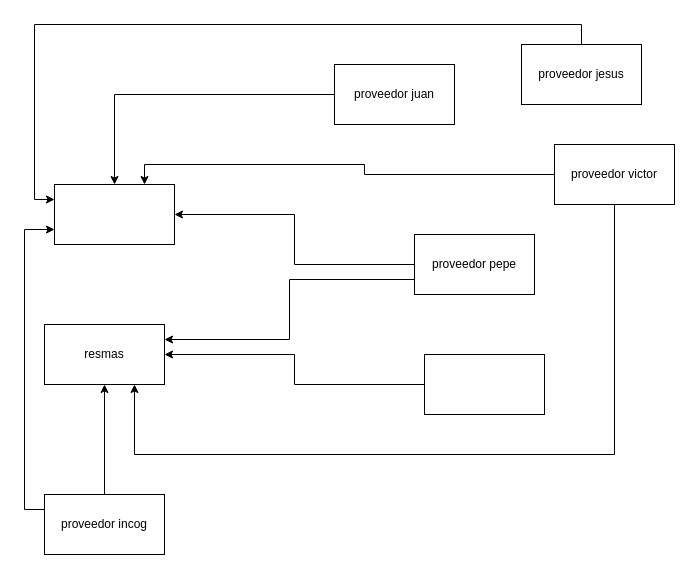
The diagram is 692 pixels wide and 572 high, and some of its shapes have lost their labels. The shapes that lost their labels are listed below. From the top down, each one's box as (x1, y1, x2, y2) in pixels, then its label:
(54, 184, 174, 244): lapiz
(424, 354, 544, 414): proveedor
